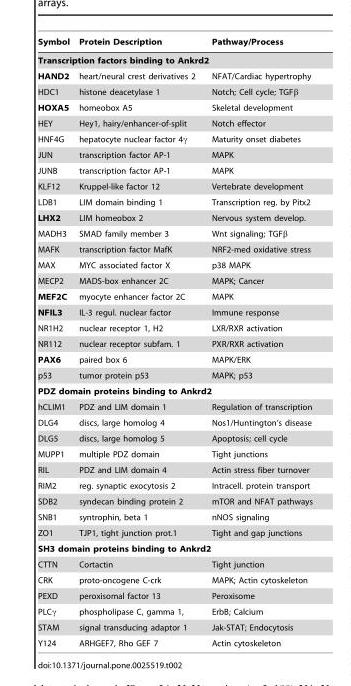table: (37, 37, 311, 647)
table column: (73, 37, 202, 647), (202, 37, 311, 647), (37, 37, 73, 647)
table column header: (37, 37, 311, 50)
table projected row header: (37, 50, 311, 68), (37, 540, 311, 556), (37, 383, 311, 398)
table row: (37, 50, 311, 68), (37, 83, 311, 99), (37, 99, 311, 115), (37, 115, 311, 131), (37, 146, 311, 162), (37, 162, 311, 178), (37, 178, 311, 194), (37, 209, 311, 225), (37, 225, 311, 241), (37, 241, 311, 257), (37, 272, 311, 288), (37, 288, 311, 304), (37, 304, 311, 320), (37, 335, 311, 351), (37, 351, 311, 367), (37, 367, 311, 383), (37, 398, 311, 414), (37, 414, 311, 430), (37, 430, 311, 446), (37, 461, 311, 477), (37, 477, 311, 493), (37, 493, 311, 509), (37, 524, 311, 540), (37, 540, 311, 556), (37, 556, 311, 572), (37, 587, 311, 603), (37, 603, 311, 619), (37, 619, 311, 635), (37, 68, 311, 83), (37, 131, 311, 146), (37, 194, 311, 209), (37, 257, 311, 272), (37, 320, 311, 335), (37, 383, 311, 398), (37, 446, 311, 461), (37, 509, 311, 524), (37, 572, 311, 587), (37, 37, 311, 50), (37, 635, 311, 647)
